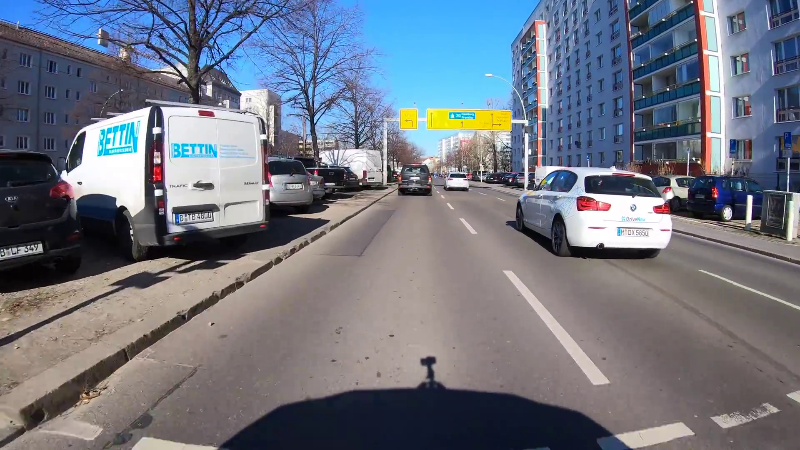Plate: (1, 238, 45, 263), (174, 205, 215, 224), (614, 226, 653, 238)
